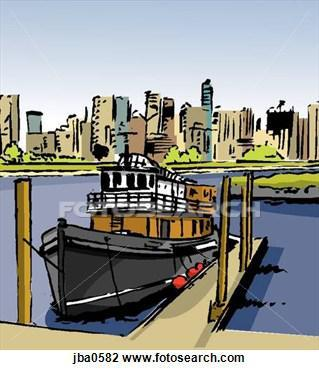boat: (30, 145, 222, 323)
